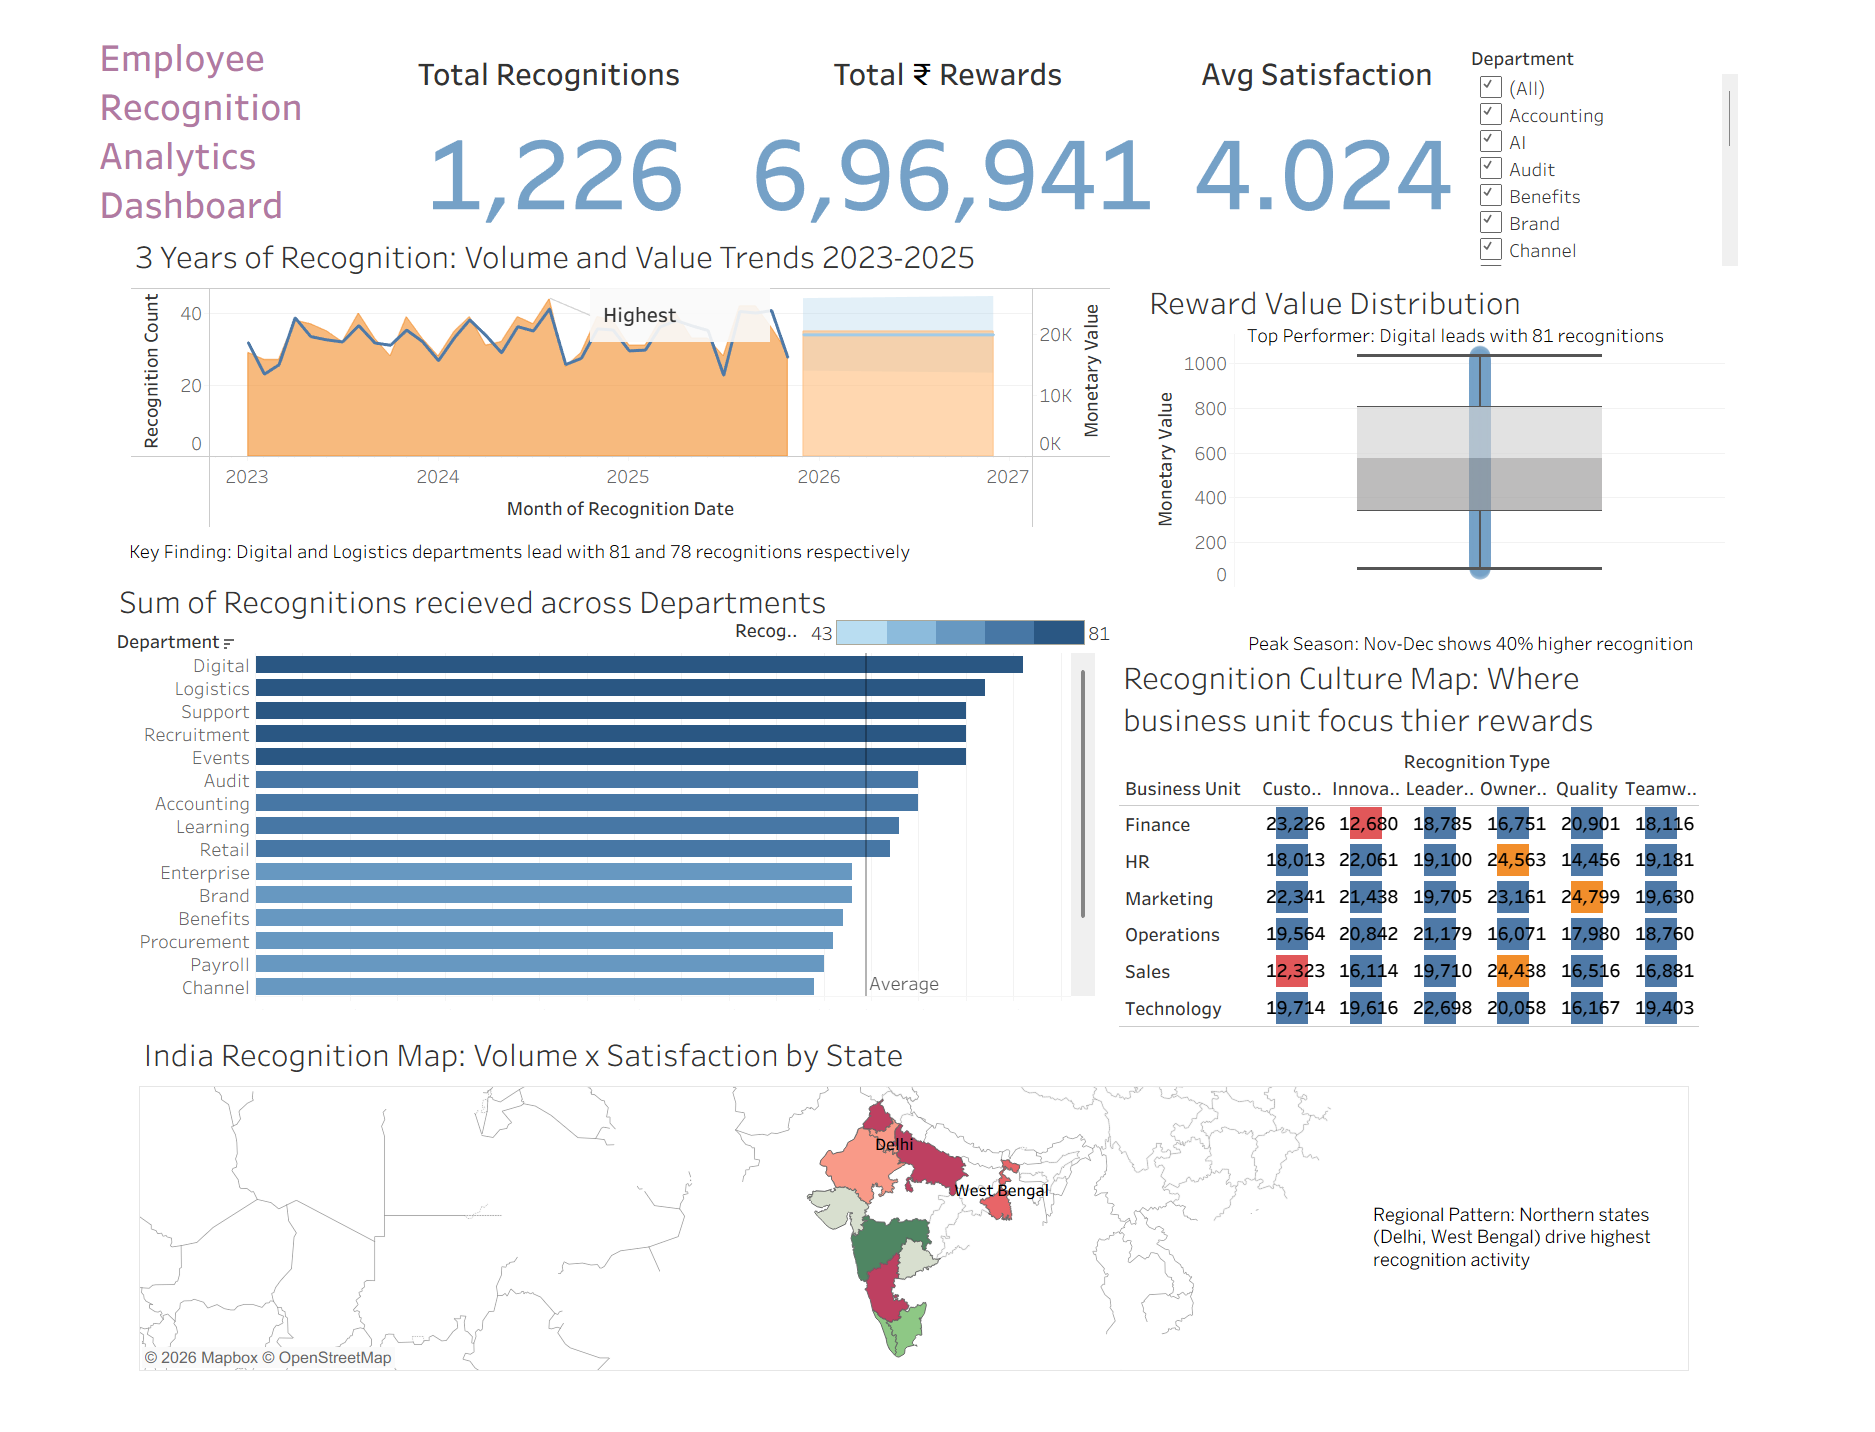

What the dashboard file says about the page in this screenshot:
{"tool":"tableau","page":{"name":"Dashboard 1","canvas":[1654,1400],"ordinal":0},"visuals":[{"type":"title","box":[8,7,293,198]},{"type":"worksheet","title":"Extra_1","mark":"Automatic","box":[241,16,345,192]},{"type":"worksheet","title":"Extra_2","mark":"Automatic","box":[648,16,444,190]},{"type":"worksheet","title":"Extra_3","mark":"Automatic","box":[1122,16,295,197]},{"type":"filter","title":"Sheet 1","param":"[federated.1u7zcwz0uzmk7i14f6vbk18j4376].[none:Department:nk]","box":[1425,19,226,221]},{"type":"worksheet","title":"Sheet 4","mark":"Automatic","rows":["Recognition_Count","Monetary_Value"],"cols":["Recognition_Date"],"box":[44,205,980,297]},{"type":"worksheet","title":"Sheet 2","mark":"Circle","rows":["Monetary_Value"],"box":[1058,251,580,310]},{"type":"text","box":[1156,297,446,24]},{"type":"text","box":[38,498,950,54]},{"type":"worksheet","title":"Sheet 1","mark":"Automatic","rows":["Department"],"cols":["Recognition_Count"],"box":[28,550,980,434]},{"type":"legend","title":"Sheet 1","param":"[federated.1u7zcwz0uzmk7i14f6vbk18j4376].[sum:Recognition_Count:qk]","box":[648,590,380,44]},{"type":"text","box":[1157,603,464,28]},{"type":"worksheet","title":"Sheet 6","mark":"Square","rows":["Business_Unit"],"cols":["Recognition_Type"],"box":[1032,626,580,375]},{"type":"worksheet","title":"Sheet 5","mark":"Multipolygon","box":[52,1003,1550,342]},{"type":"text","box":[1282,1167,314,88]}]}

Visuals, with their boxes on the page's 1654x1400 design canvas (x1, y1, x2, y2). These are canvas units, not pixel positions in the 1875x1432 screenshot, which may show the page scaled, cropped or inside an application window:
title: bbox(8, 7, 301, 205)
"Extra_1" worksheet: bbox(241, 16, 586, 208)
"Extra_2" worksheet: bbox(648, 16, 1092, 206)
"Extra_3" worksheet: bbox(1122, 16, 1417, 213)
"Sheet 1" filter: bbox(1425, 19, 1651, 240)
"Sheet 4" worksheet: bbox(44, 205, 1024, 502)
"Sheet 2" worksheet (Circle marks): bbox(1058, 251, 1638, 561)
text: bbox(1156, 297, 1602, 321)
text: bbox(38, 498, 988, 552)
"Sheet 1" worksheet: bbox(28, 550, 1008, 984)
"Sheet 1" legend: bbox(648, 590, 1028, 634)
text: bbox(1157, 603, 1621, 631)
"Sheet 6" worksheet (Square marks): bbox(1032, 626, 1612, 1001)
"Sheet 5" worksheet (Multipolygon marks): bbox(52, 1003, 1602, 1345)
text: bbox(1282, 1167, 1596, 1255)
